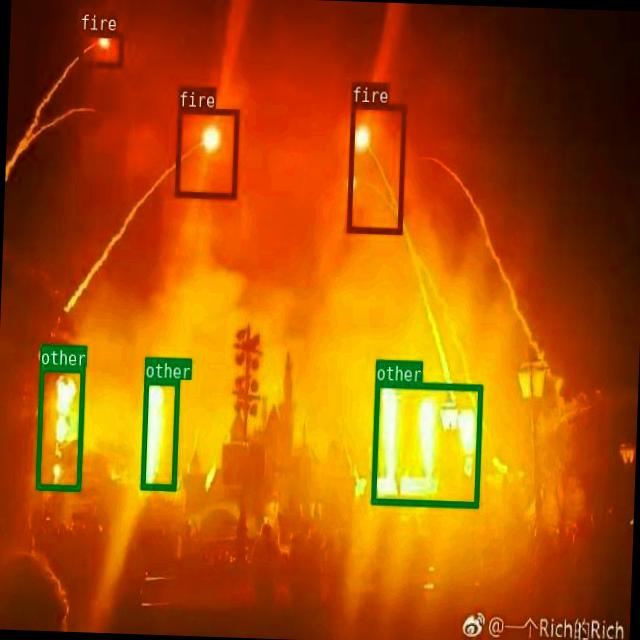fire: (346, 102, 405, 233), (174, 106, 238, 197), (78, 28, 122, 68)
